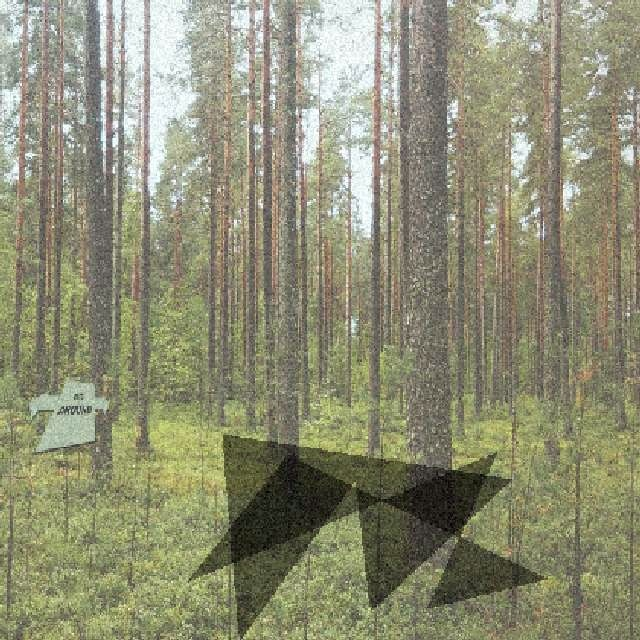GO_AROUND: (26, 378, 109, 454)
